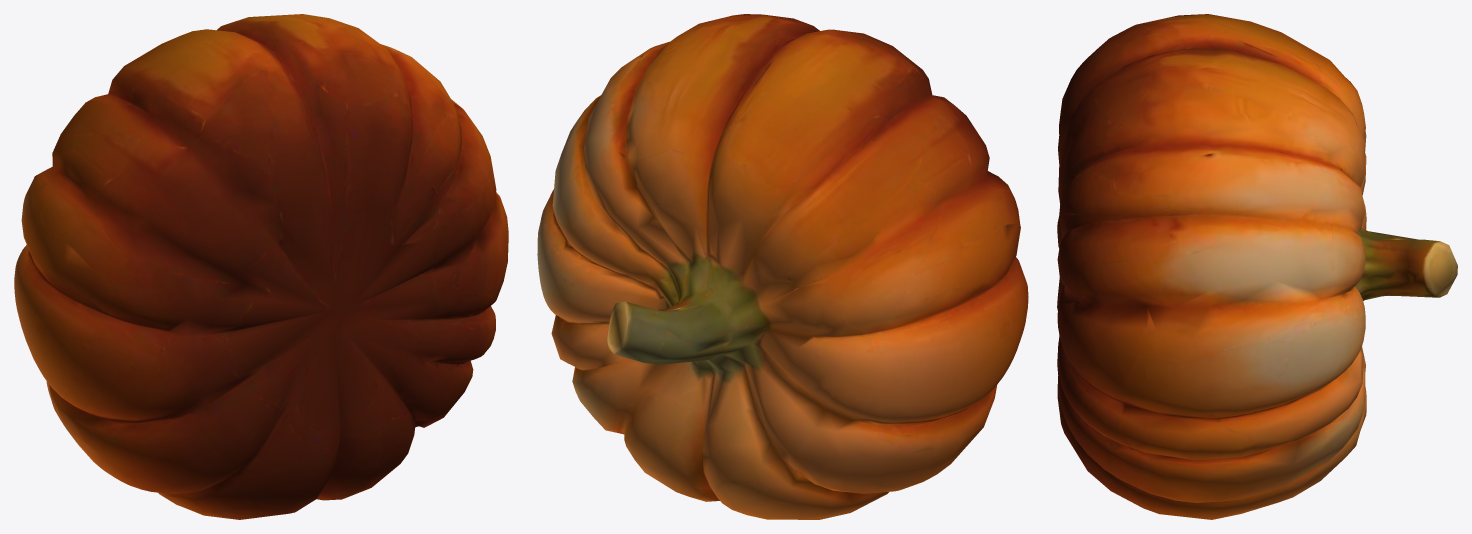
3 renders of one model, left to right at view 1: azimuth 30°, elevation 25°; view 2: azimuth 150°, elevation 25°; view 3: azimuth 270°, elevation 25°, orthographic.
Parts seen in each view (by area): view 1: material; view 2: material; view 3: material.
Boxes of the visible parts, left/top/right/bottom form: material: left=14, top=14, right=508, bottom=519; material: left=537, top=14, right=1028, bottom=519; material: left=1057, top=14, right=1457, bottom=519.
Bounding box in the file's own units: 1 × 0.9963 × 0.7978.
Materials: 1 (1 with a texture image).
